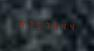eight: (17, 18, 24, 29)
five: (33, 19, 40, 30)
four: (65, 20, 72, 32), (57, 20, 64, 31)
seven: (25, 18, 32, 30), (41, 19, 48, 31)
six: (49, 20, 56, 31)
